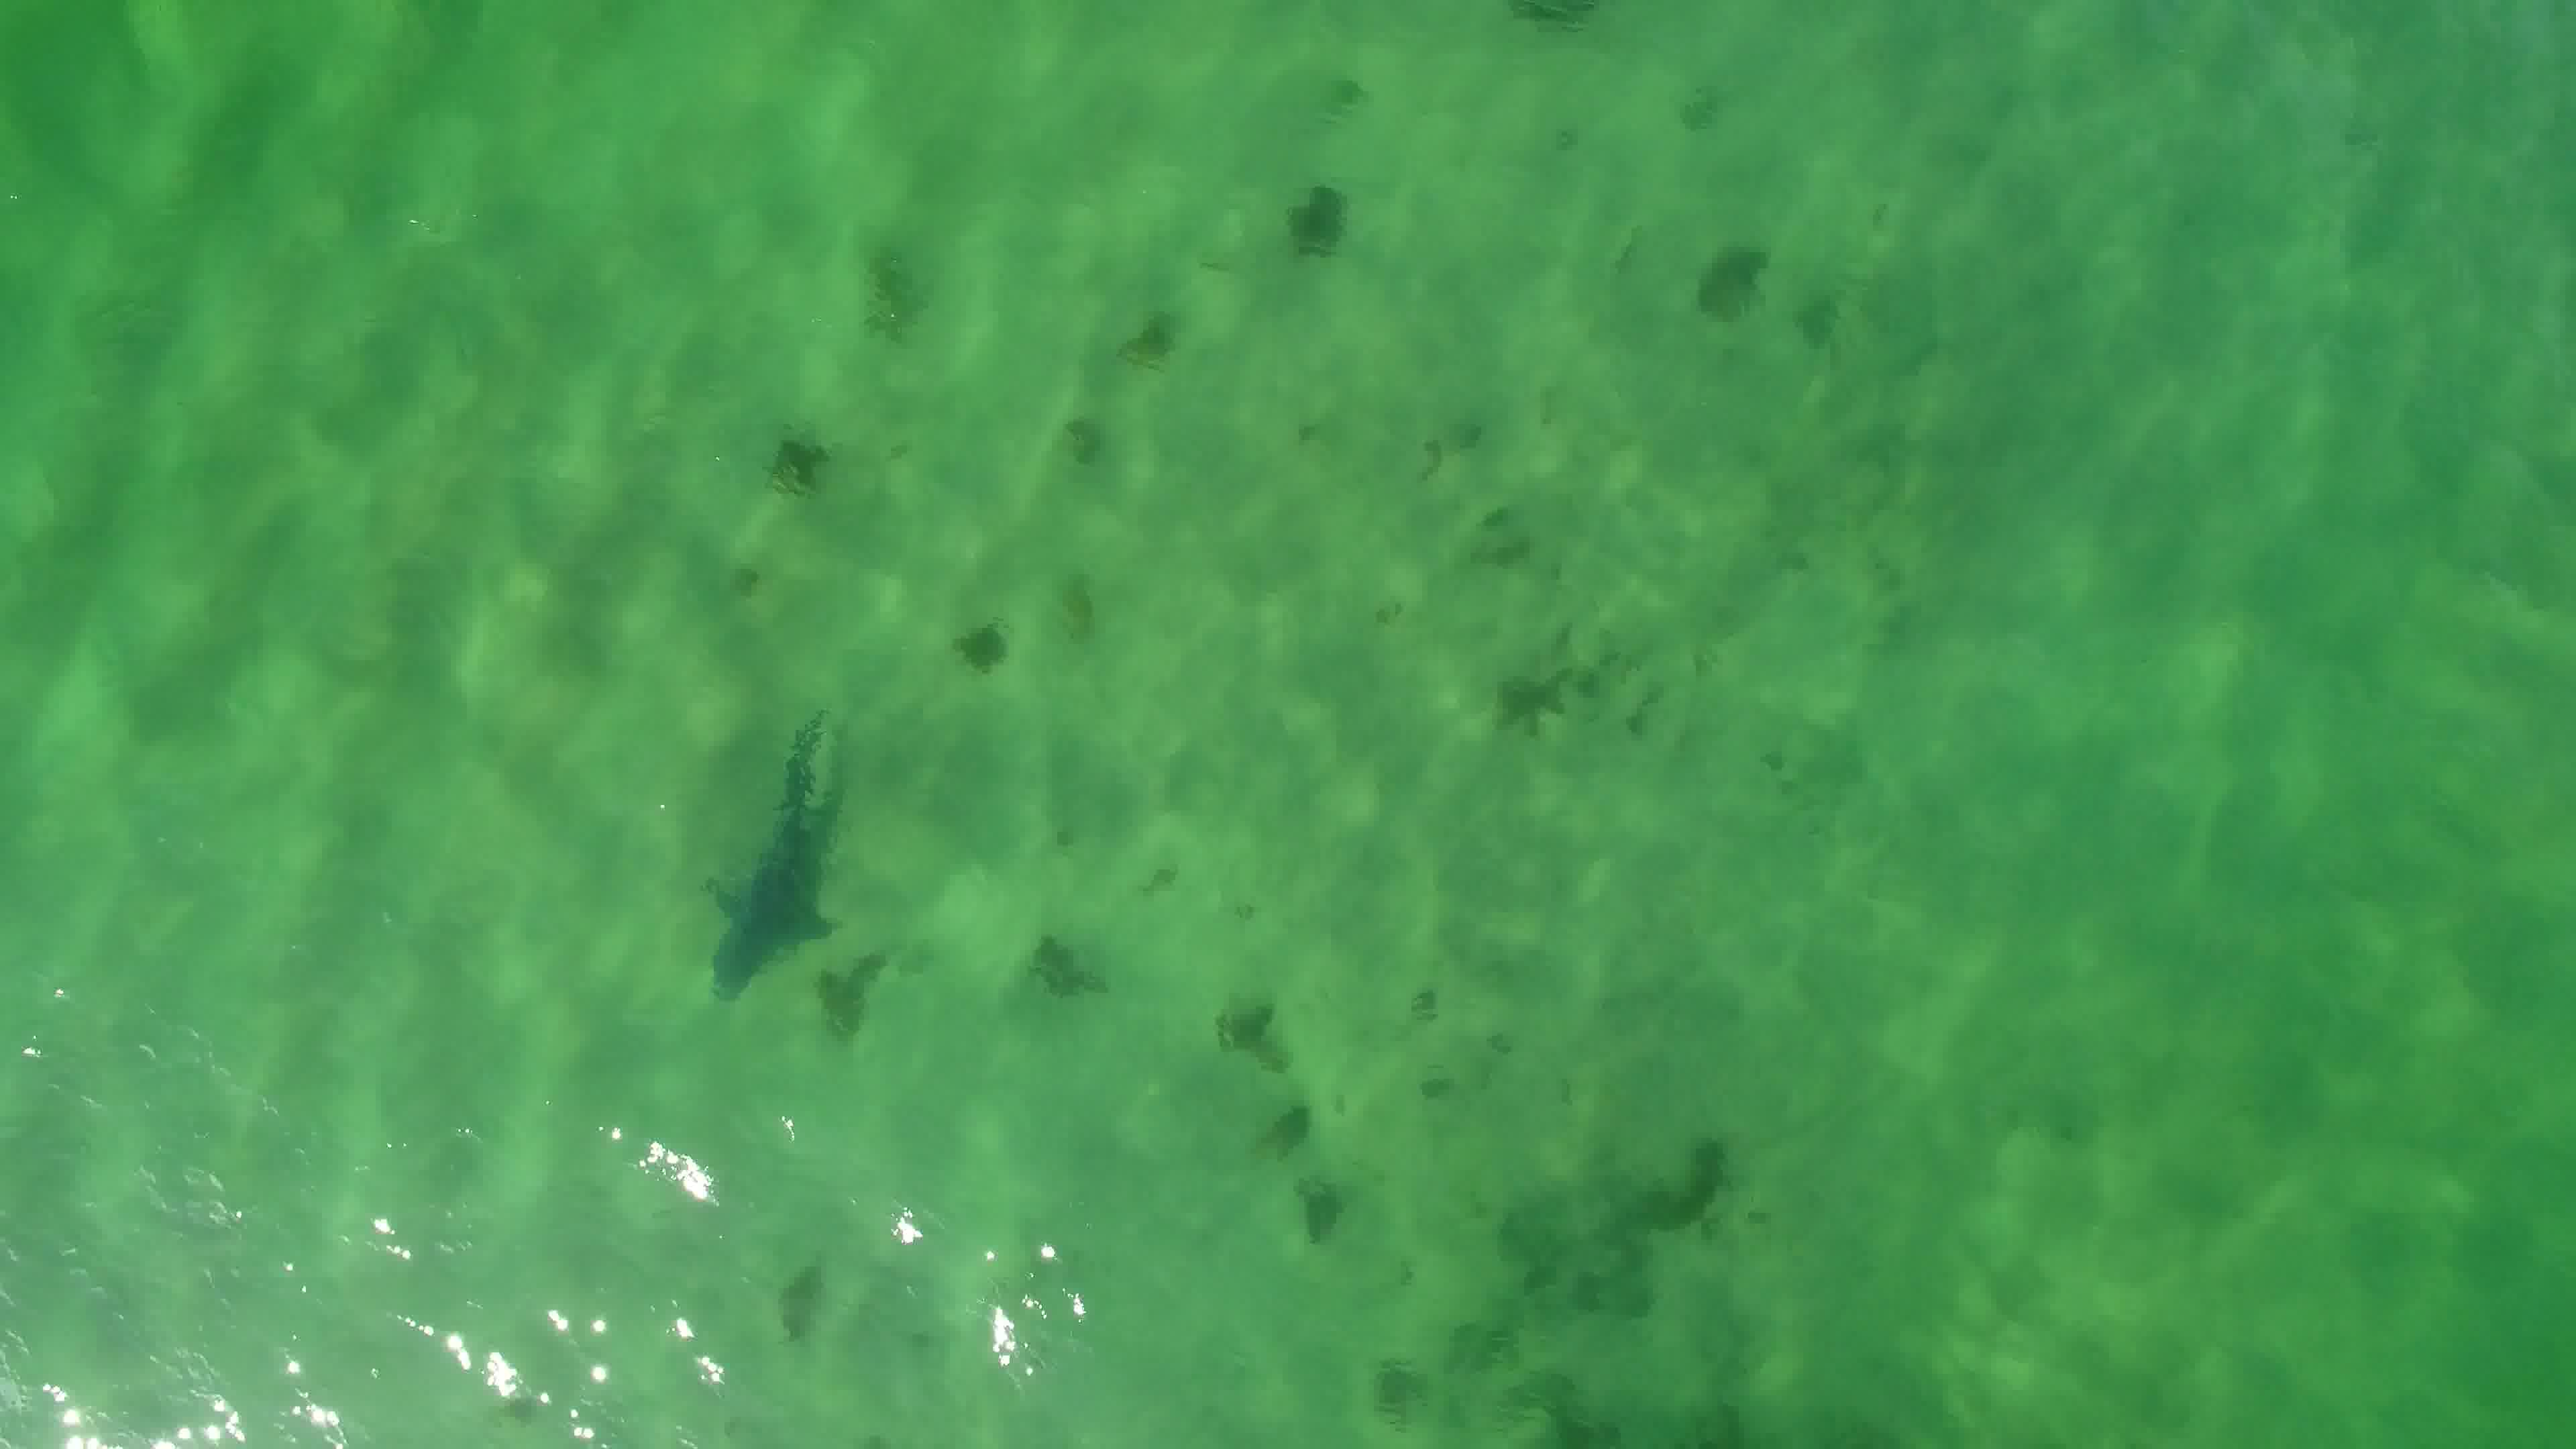shark: (690, 706, 846, 1012)
